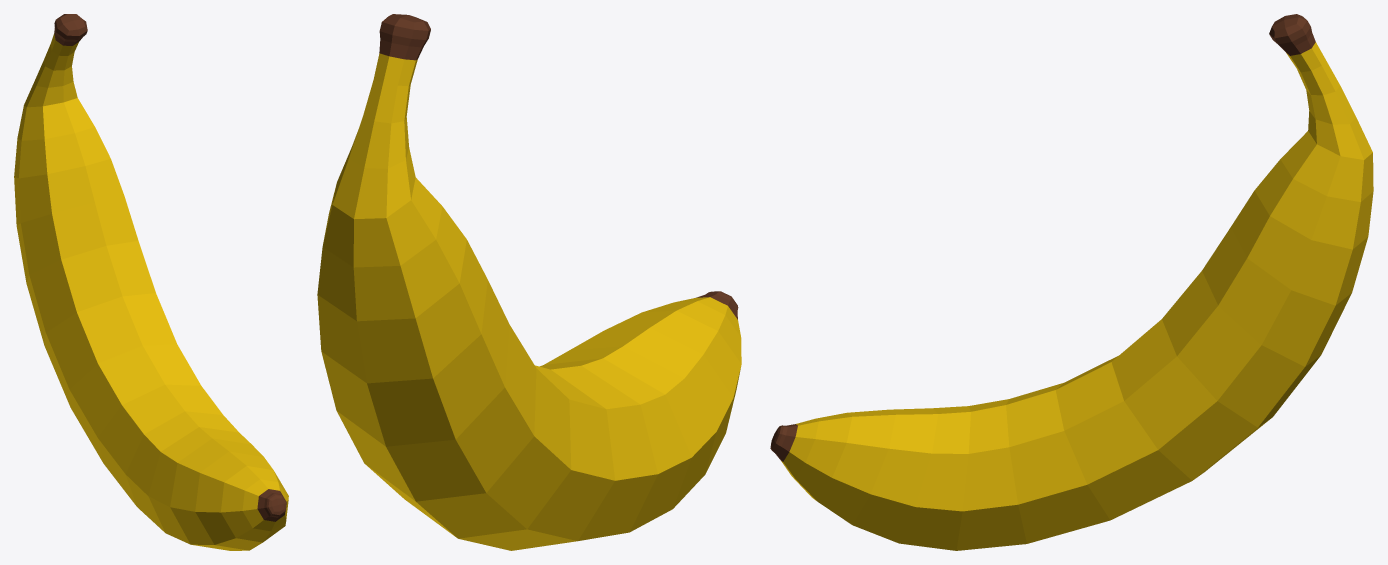
The model's file is banana.fbx.
3 views of the same model, side by side, from view 1: azimuth 30°, elevation 25°; view 2: azimuth 150°, elevation 25°; view 3: azimuth 270°, elevation 25° (orthographic). The views are drawn at different scales.
Parts seen in each view (by area): view 1: banana; view 2: banana; view 3: banana.
Part boxes in pixels (bbox=[...]): banana: bbox=[14, 14, 288, 550]; banana: bbox=[317, 14, 741, 550]; banana: bbox=[770, 14, 1373, 550].
Size of the model in its own units: 9.81 by 36.38 by 37.66.
